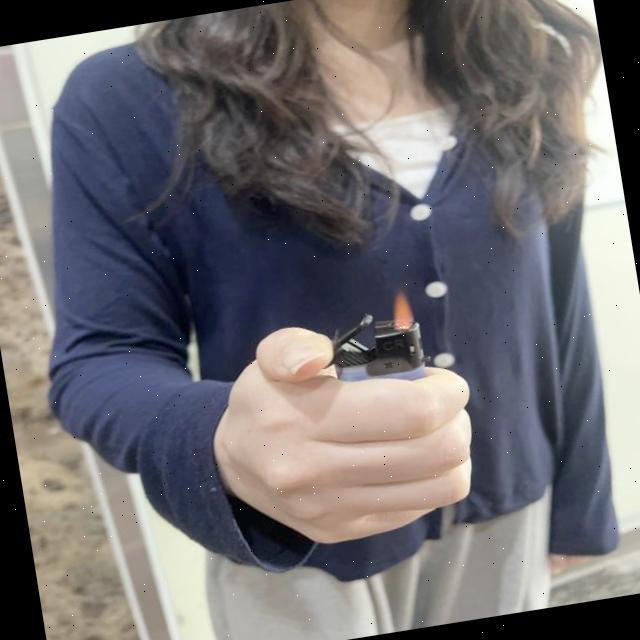fire: (384, 288, 416, 328)
